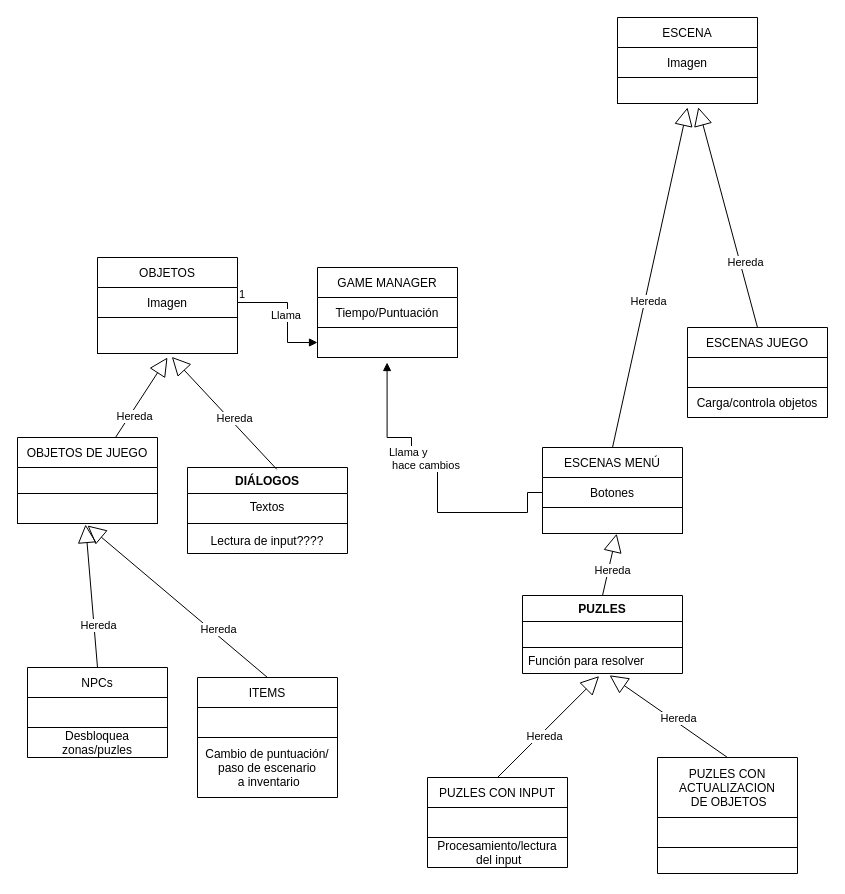
Some shapes in this 845 by 894 pixel diagram are drawn without their labels. Each missing label, with the centre of its shape:
Array con los objetos: [727,832]
Clickeable: [167,335]
Control de escenas/misiones: [387,342]
LLamada a diálogos: [87,508]
